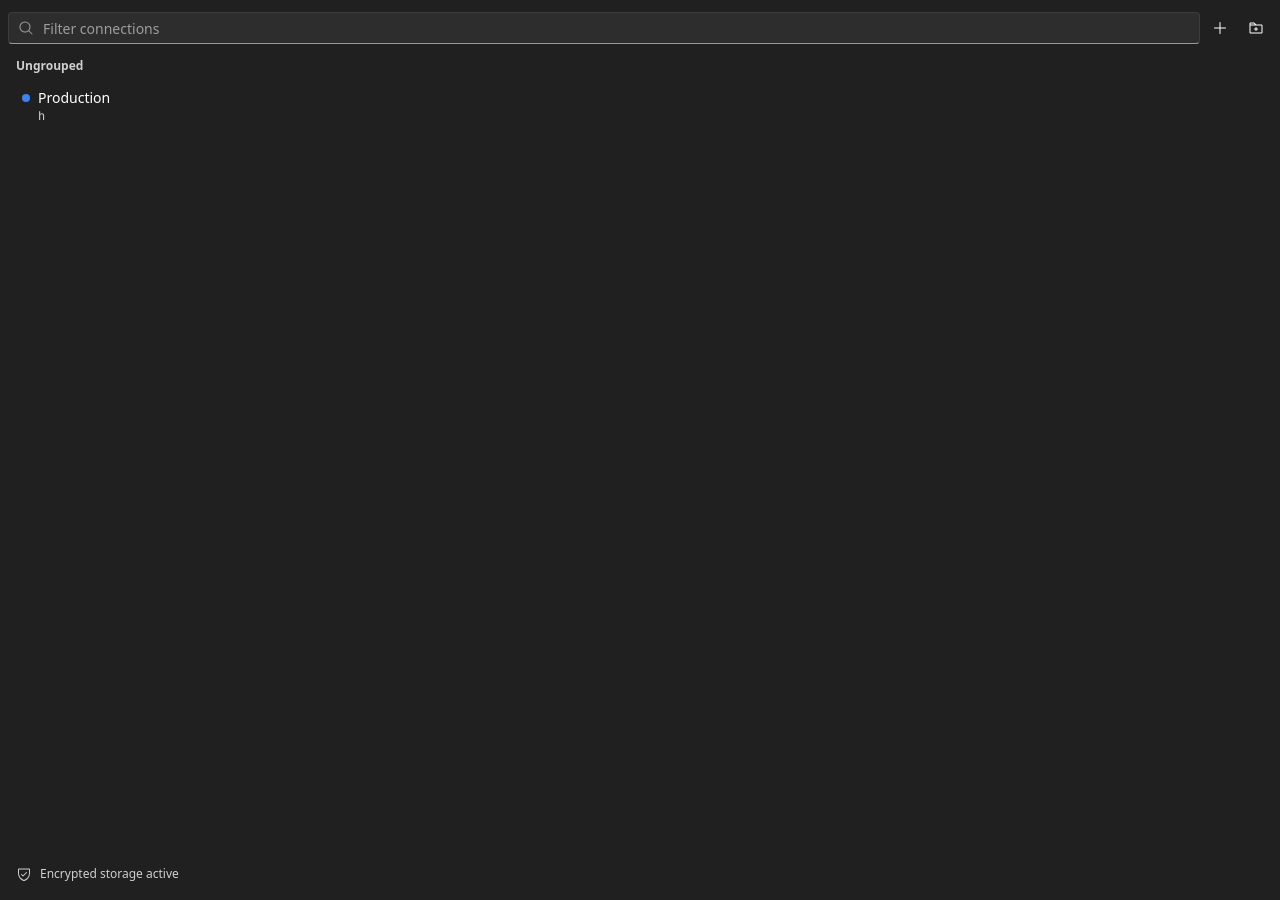
SavedConnectionsList › quick filter › does not match on typos (exact substring only)
Type "prodction" into the field with test id "connection-filter-input" at (604, 28), box 8,12 -> 1200,44
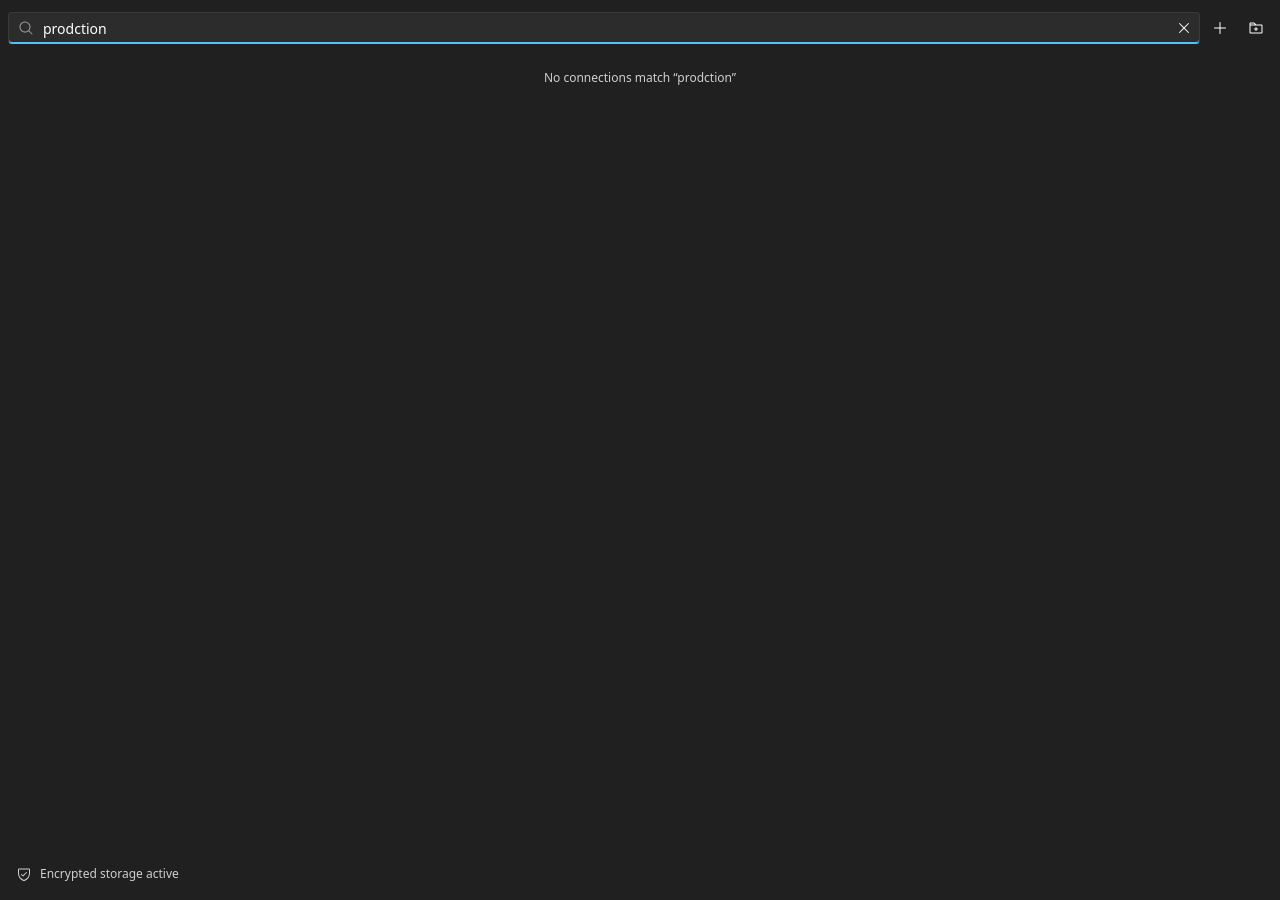
Result: the text "No connections match “prodction”" is shown at 544,69 -> 736,86
Result: the button "Production" is gone
